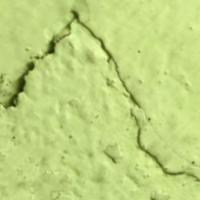crack: (3, 12, 108, 124)
